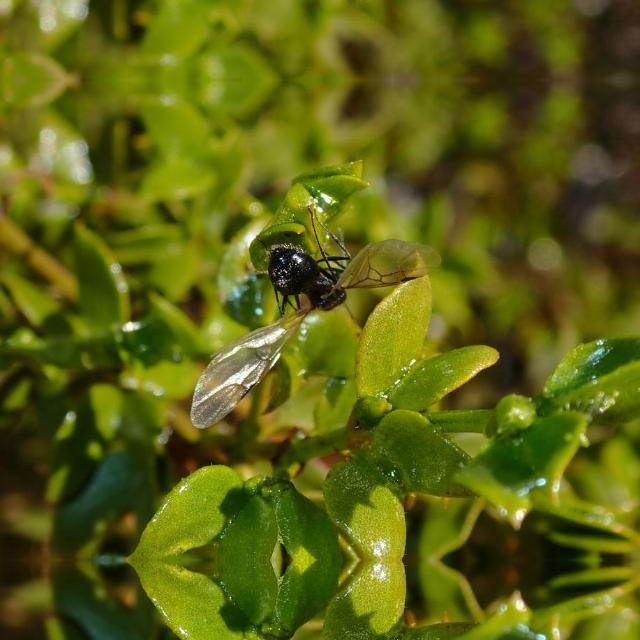Messor: (242, 228, 374, 332)
